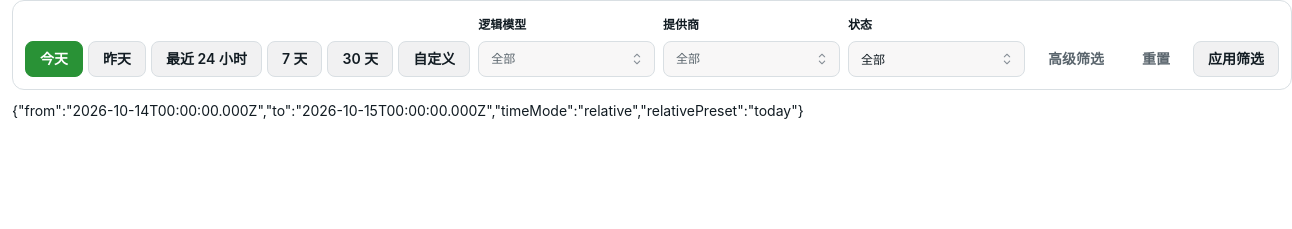
usage time presets › allows clearing custom dates and reports the invalid range without crashing
Click the button "自定义" at x=434, y=59, box [398, 41, 470, 77]
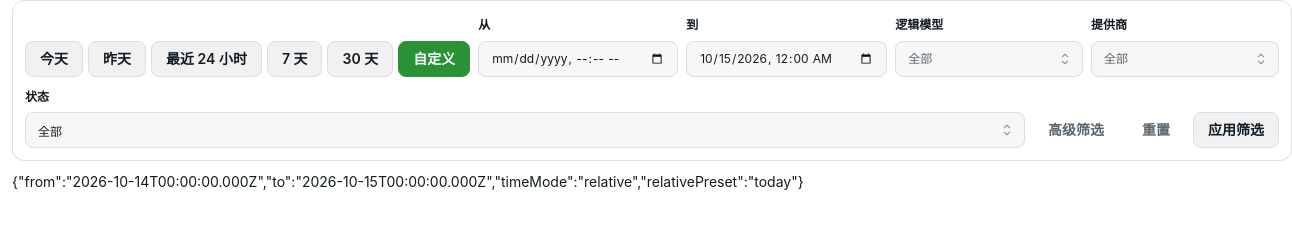
Click the button "应用筛选" at x=1236, y=130, box [1193, 112, 1279, 148]
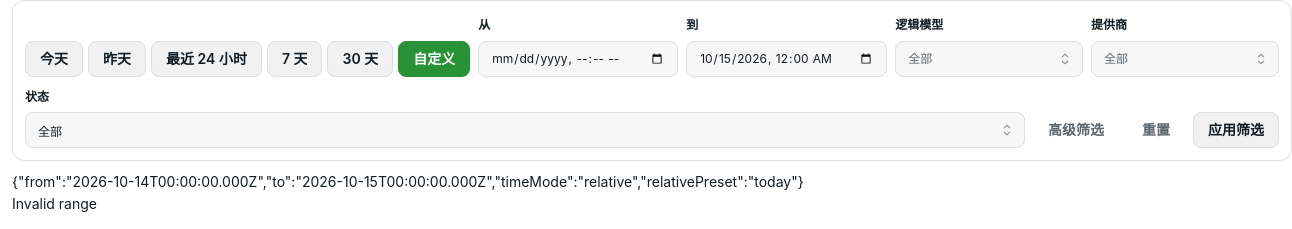
Result: the message "Invalid range" is shown at [12, 195, 97, 212]
